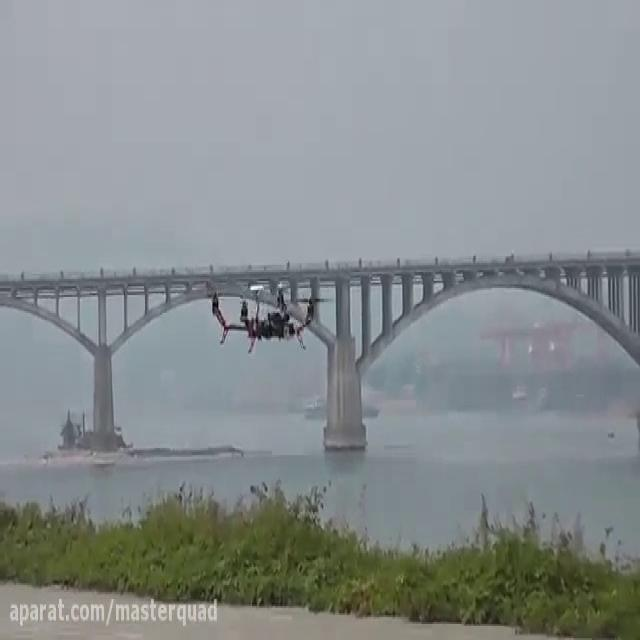drone: (198, 279, 332, 350)
